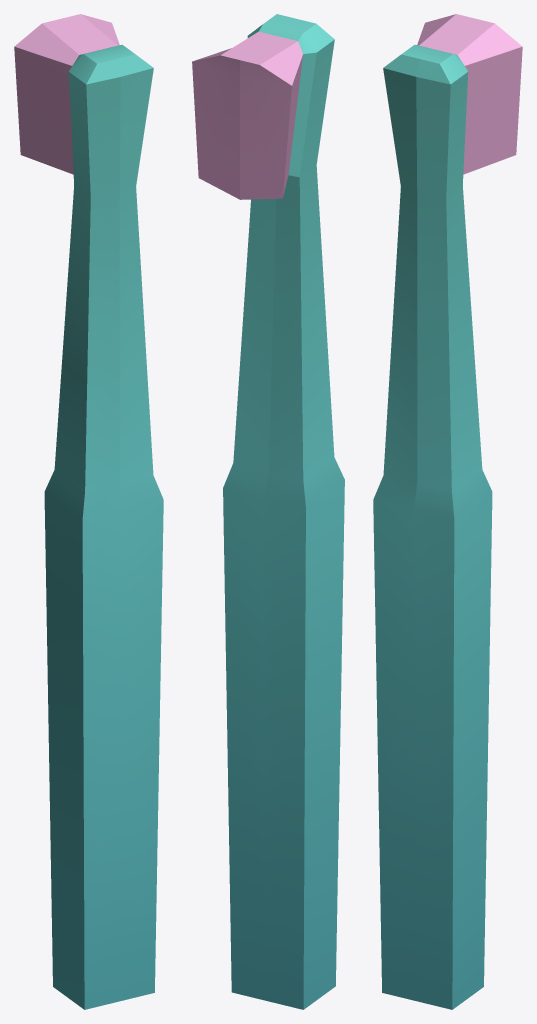
The model's file is toothbrush.fbx.
3 renders of one model, left to right at view 1: azimuth 30°, elevation 25°; view 2: azimuth 150°, elevation 25°; view 3: azimuth 330°, elevation 25°, orthographic. The views are drawn at different scales.
Visible parts, largest first — view 1: toothbrush; view 2: toothbrush; view 3: toothbrush.
Part boxes in pixels (x1,y1,x2,y2): toothbrush: [14, 14, 163, 1009]; toothbrush: [192, 14, 344, 1009]; toothbrush: [373, 14, 522, 1009].
Size of the model in its own units: 10.43 by 95.84 by 11.45.
